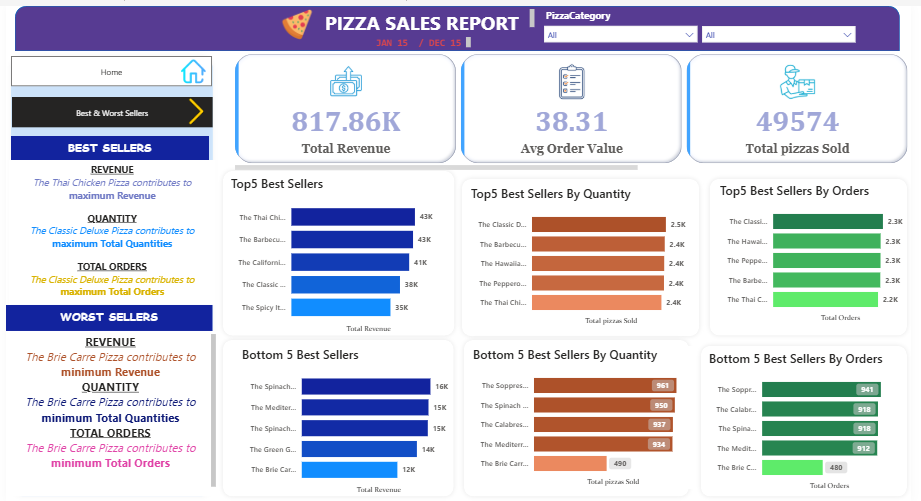

This screenshot's page, from the dashboard's own definition file:
{"tool":"powerbi","page":{"name":"Best & Worst Sellers","canvas":[1500,820],"ordinal":1},"visuals":[{"type":"shape","box":[0,73.8,350.8,746.1],"z":0},{"type":"textbox","box":[367.4,131.2,195.2,45.9],"z":1000},{"type":"cardVisual","fields":{"Data":["pizza_sales.Total Revenue","pizza_sales.Avg Order Value","pizza_sales.Total pizzas Sold","pizza_sales.Total Orders","pizza_sales.Avg Pizzas per Order"]},"box":[374,74.8,1126,204.7],"z":2000},{"type":"shape","box":[14.9,0,1465.7,74.6],"z":3000},{"type":"textbox","box":[523.9,0,356.7,46.3],"z":4000},{"type":"textbox","box":[607.5,46.3,167.2,28.4],"z":5000},{"type":"image","box":[440.3,0,83.6,61.2],"z":6000},{"type":"shape","box":[350.4,265.8,399.6,289.4],"z":7000},{"type":"textbox","box":[7.7,215.4,327.7,40],"z":17000},{"type":"textbox","box":[4.6,255.4,341.5,240],"z":18000},{"type":"textbox","box":[0,495.4,341.5,43.1],"z":19000},{"type":"textbox","box":[1.5,538.5,350.8,273.9],"z":20000},{"type":"slicer","fields":{"Values":["pizza_sales.pizza_category"]},"box":[880.7,0,273.9,60.7],"z":21000},{"type":"slicer","fields":{"Values":["pizza_sales.Order Day"]},"box":[1143.1,23,273.9,60.7],"z":22000},{"type":"shape","box":[747.7,278.5,409.2,276.9],"z":22001},{"type":"shape","box":[1157.8,278.8,342.8,275.5],"z":22002},{"type":"shape","box":[350.8,544.6,398.5,275.4],"z":22003},{"type":"shape","box":[750.8,544.6,389.2,275.4],"z":22004},{"type":"shape","box":[1143.1,554.3,357.5,265.7],"z":22005},{"type":"barChart","title":"Top5 Best Sellers","fields":{"Y":["pizza_sales.Total Revenue"],"Category":["pizza_sales.pizza_name"]},"box":[368.1,279.5,366.1,265.8],"z":22006},{"type":"barChart","title":"Bottom 5 Best Sellers","fields":{"Y":["pizza_sales.Total Revenue"],"Category":["pizza_sales.pizza_name"]},"box":[386.1,563.1,364.6,249.2],"z":22007},{"type":"barChart","title":"Top5 Best Sellers By Quantity","fields":{"Category":["pizza_sales.pizza_name"],"Y":["pizza_sales.Total pizzas Sold"]},"box":[766.1,296.9,373.9,236.9],"z":22008},{"type":"barChart","title":"Bottom 5 Best Sellers By Quantity","fields":{"Category":["pizza_sales.pizza_name"],"Y":["pizza_sales.Total pizzas Sold"]},"box":[769.2,563.1,373.9,236.9],"z":22009},{"type":"barChart","title":"Top5 Best Sellers By Orders","fields":{"Category":["pizza_sales.pizza_name"],"Y":["pizza_sales.Total Orders"]},"box":[1178.5,292.3,321.5,236.9],"z":22010},{"type":"barChart","title":"Bottom 5 Best Sellers By Orders","fields":{"Category":["pizza_sales.pizza_name"],"Y":["pizza_sales.Total Orders"]},"box":[1160,569.2,321.5,236.9],"z":22011},{"type":"pageNavigator","box":[7.7,83.1,333.9,50.8],"z":22012},{"type":"pageNavigator","box":[9.2,150.8,332.3,50.8],"z":22013},{"type":"image","box":[284.6,83.1,50.8,50.8],"z":22014},{"type":"image","box":[287.7,147.7,53.9,53.9],"z":22015}]}

Visuals, with their boxes in screenshot pixels (x1, y1, x2, y2), scaled from the page's 1500x820 canvas onto the 921x501 screenshot:
shape: l=0, t=45, r=215, b=500
textbox: l=226, t=80, r=345, b=108
cardVisual - pizza_sales.Total Revenue x pizza_sales.Avg Order Value: l=230, t=46, r=920, b=171
shape: l=9, t=0, r=909, b=46
textbox: l=322, t=0, r=541, b=28
textbox: l=373, t=28, r=476, b=46
image: l=270, t=0, r=322, b=37
shape: l=215, t=162, r=460, b=339
textbox: l=5, t=132, r=206, b=156
textbox: l=3, t=156, r=213, b=303
textbox: l=0, t=303, r=210, b=329
textbox: l=1, t=329, r=216, b=496
slicer - pizza_sales.pizza_category: l=541, t=0, r=709, b=37
slicer - pizza_sales.Order Day: l=702, t=14, r=870, b=51
shape: l=459, t=170, r=710, b=339
shape: l=711, t=170, r=920, b=339
shape: l=215, t=333, r=460, b=500
shape: l=461, t=333, r=700, b=500
shape: l=702, t=339, r=920, b=500
"Top5 Best Sellers" barChart: l=226, t=171, r=451, b=333
"Bottom 5 Best Sellers" barChart: l=237, t=344, r=461, b=496
"Top5 Best Sellers By Quantity" barChart: l=470, t=181, r=700, b=326
"Bottom 5 Best Sellers By Quantity" barChart: l=472, t=344, r=702, b=489
"Top5 Best Sellers By Orders" barChart: l=724, t=179, r=920, b=323
"Bottom 5 Best Sellers By Orders" barChart: l=712, t=348, r=910, b=493
pageNavigator: l=5, t=51, r=210, b=82
pageNavigator: l=6, t=92, r=210, b=123
image: l=175, t=51, r=206, b=82
image: l=177, t=90, r=210, b=123
